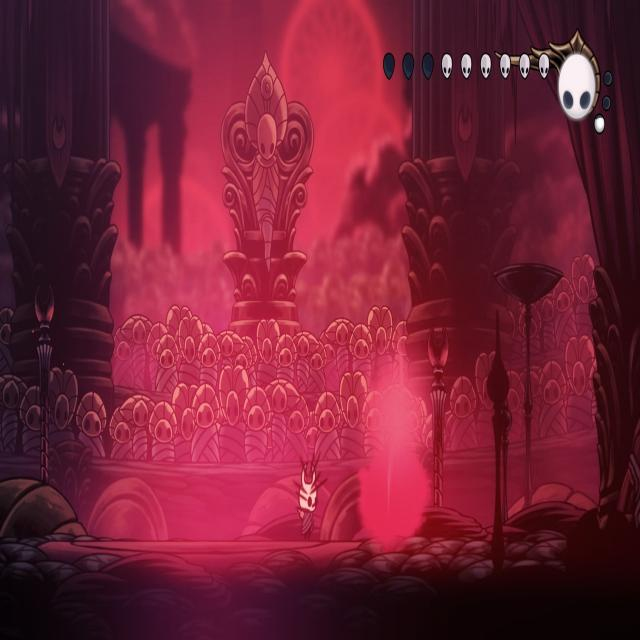Player: (292, 452, 320, 542)
